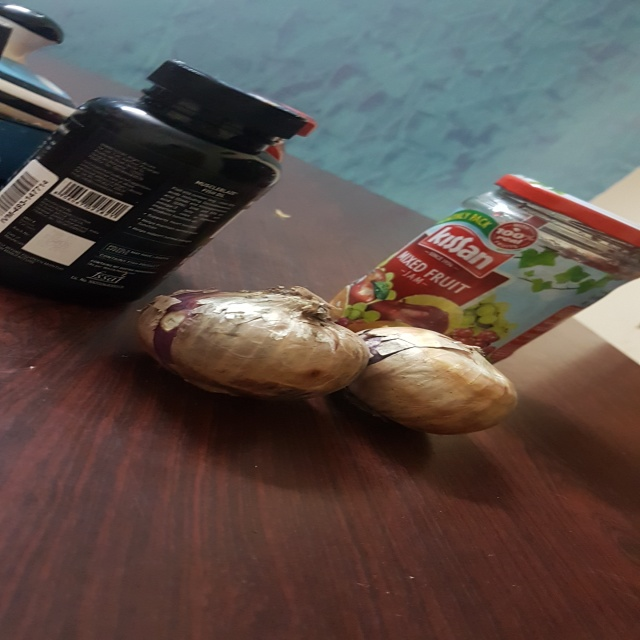onion: (127, 256, 369, 427), (352, 317, 525, 458)
